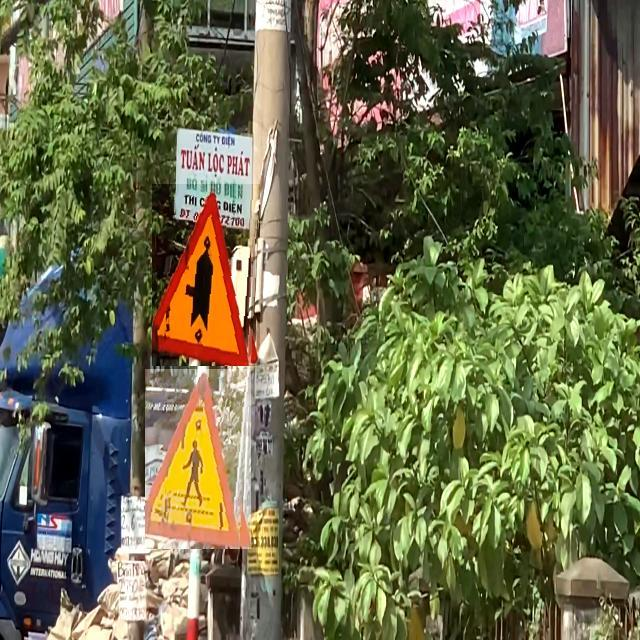W-207c: (152, 184, 260, 366)
W-224: (145, 369, 251, 549)
